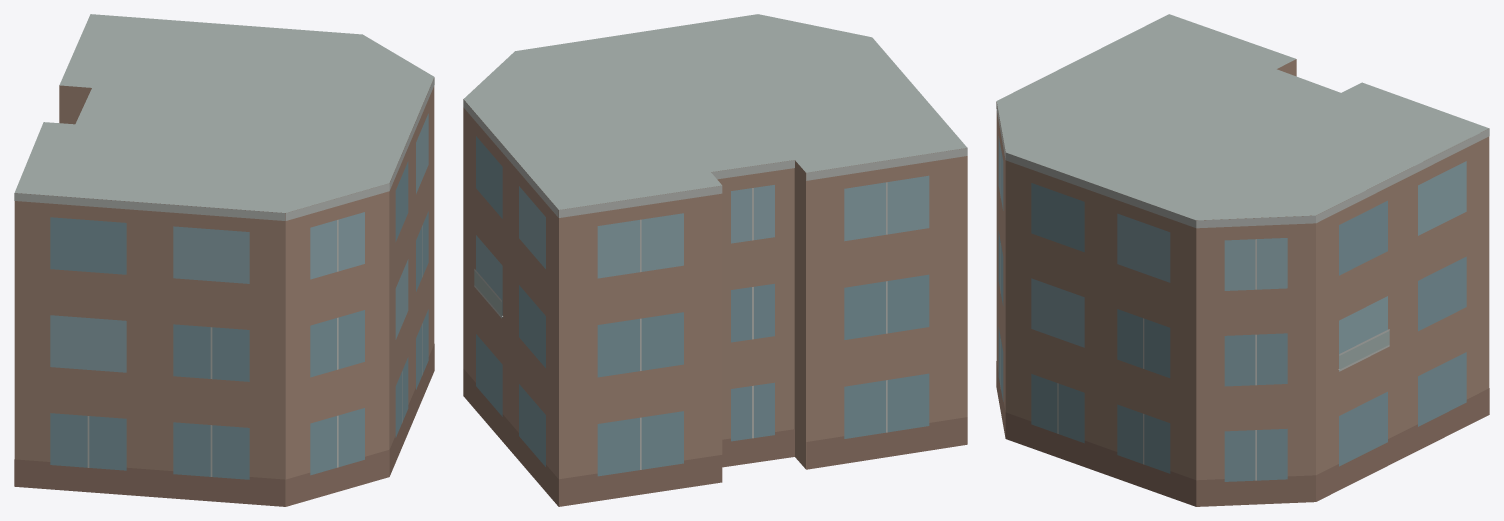
Rendered from survey-upis-33001449.glb.
3 views of the same model, side by side, from view 1: azimuth 30°, elevation 25°; view 2: azimuth 150°, elevation 25°; view 3: azimuth 270°, elevation 25° (orthographic). The views are drawn at different scales.
Parts seen in each view (by area): view 1: survey-upis-33001449.tmp; view 2: survey-upis-33001449.tmp; view 3: survey-upis-33001449.tmp.
Part boxes in pixels (left/top/right/bottom): survey-upis-33001449.tmp: left=14, top=14, right=434, bottom=506; survey-upis-33001449.tmp: left=463, top=14, right=967, bottom=506; survey-upis-33001449.tmp: left=996, top=14, right=1489, bottom=506.
Bounding box in the file's own units: 13.77 × 8.9 × 13.89.
